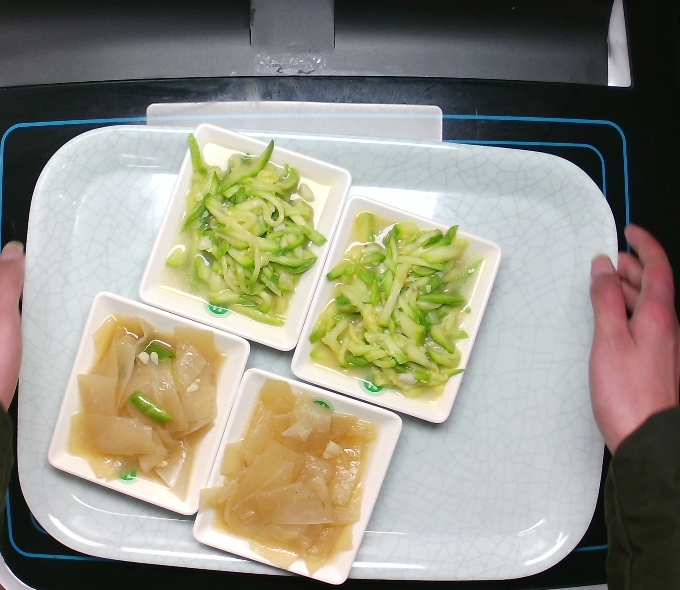wcq-LuoBo: (58, 304, 244, 503), (205, 365, 379, 575)
wcq-NenNanGua: (302, 200, 483, 405), (154, 130, 331, 324)
